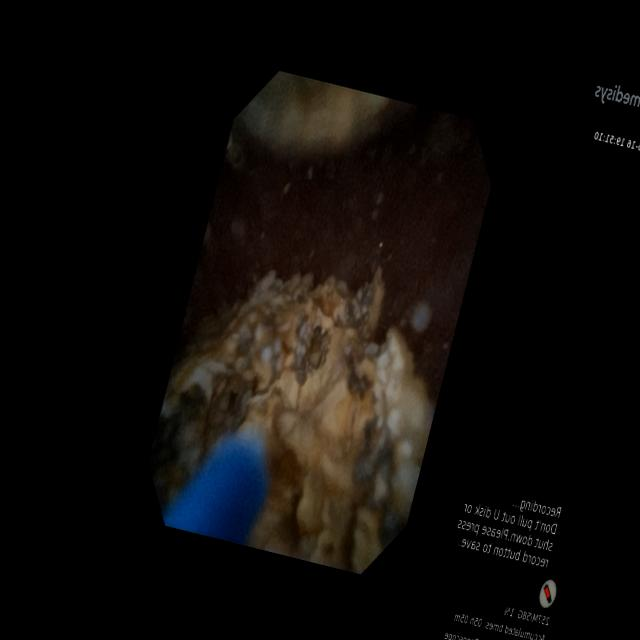stone-new: (148, 266, 433, 572)
